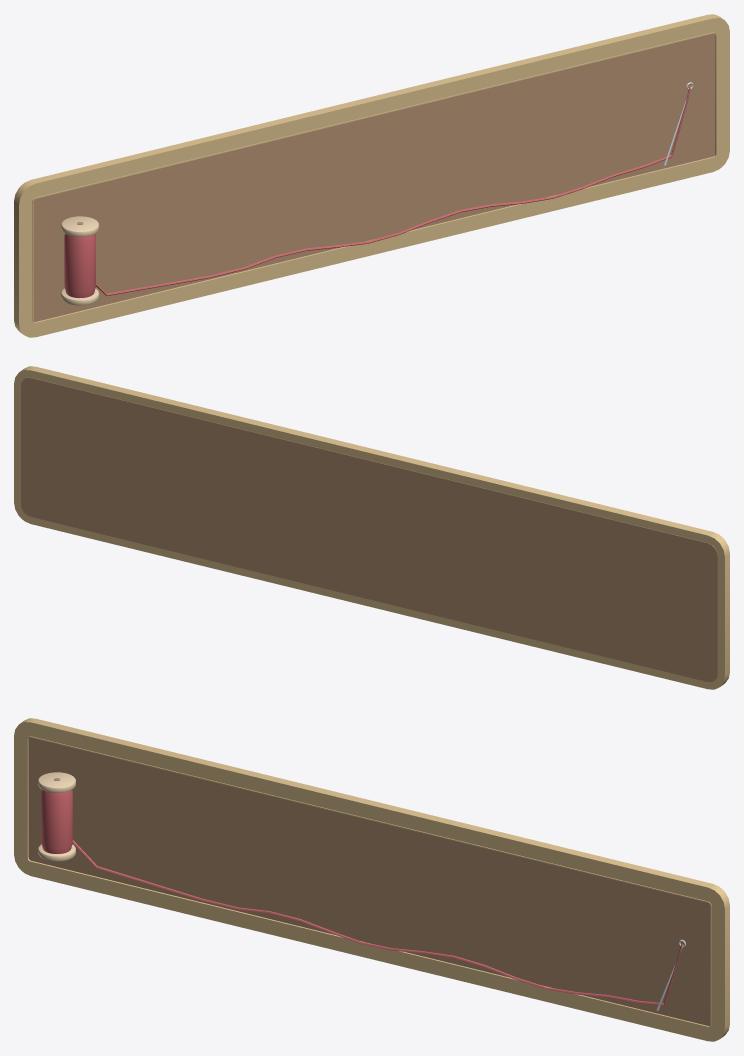
File: sign_main.glb
3 views of the same model, one above another, from view 1: azimuth 30°, elevation 25°; view 2: azimuth 150°, elevation 25°; view 3: azimuth 330°, elevation 25° (orthographic).
Visible parts, largest first — view 1: sign_main; view 2: sign_main; view 3: sign_main.
Part boxes in pixels (x1,y1,x2,y2): sign_main: (14,14,729,337); sign_main: (14,366,729,689); sign_main: (14,718,729,1041).
Size of the model in its own units: 3 by 0.62 by 0.175.
